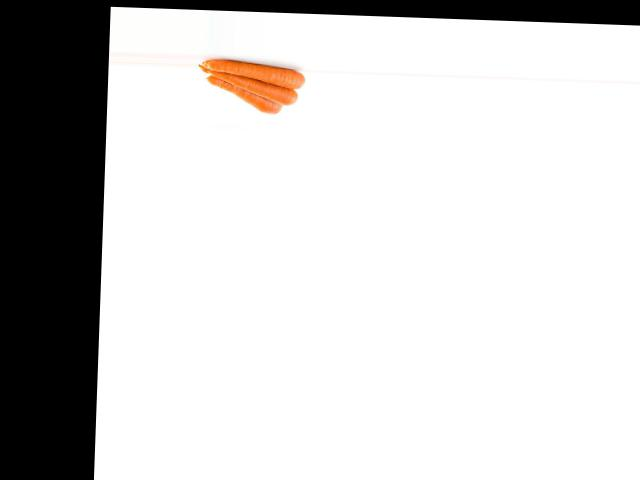carrot: (201, 53, 309, 89)
